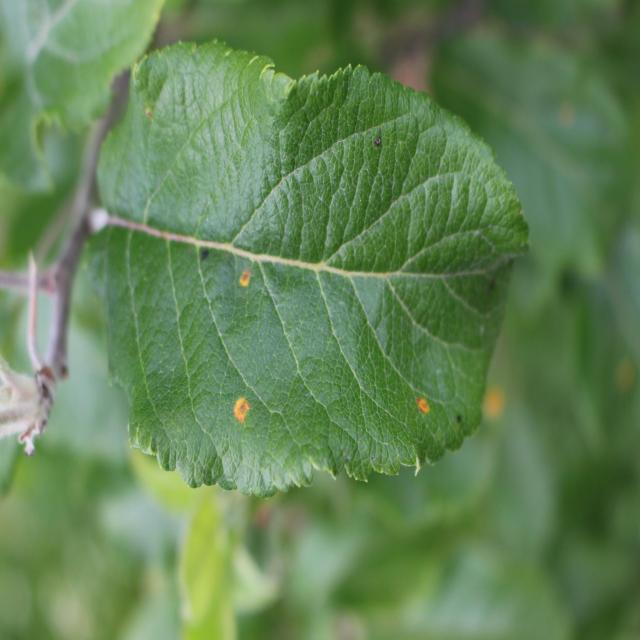Rust: (227, 369, 262, 444), (412, 370, 437, 446), (236, 256, 256, 294)
